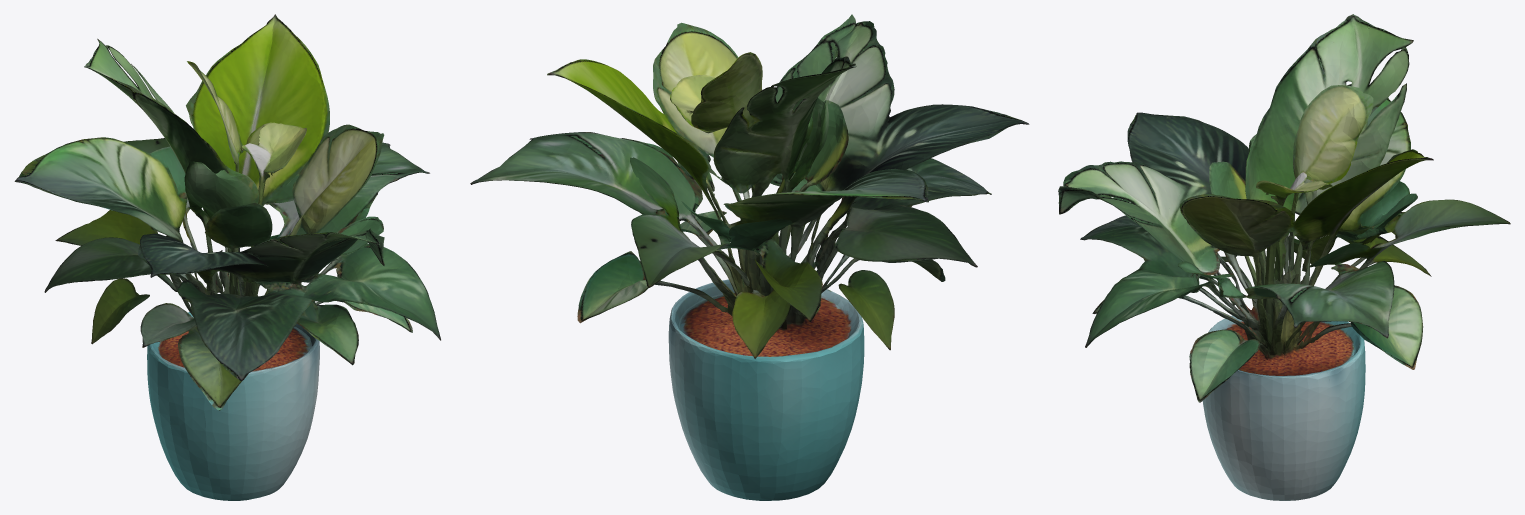
Rendered from houseplant_trellis.glb.
The picture shows the model from 3 angles, left to right: view 1: azimuth 30°, elevation 25°; view 2: azimuth 150°, elevation 25°; view 3: azimuth 270°, elevation 25°; orthographic projection. The views are drawn at different scales.
Size of the model in its own units: 0.9997 by 1 by 1.
Materials: 1 (1 with a texture image).
